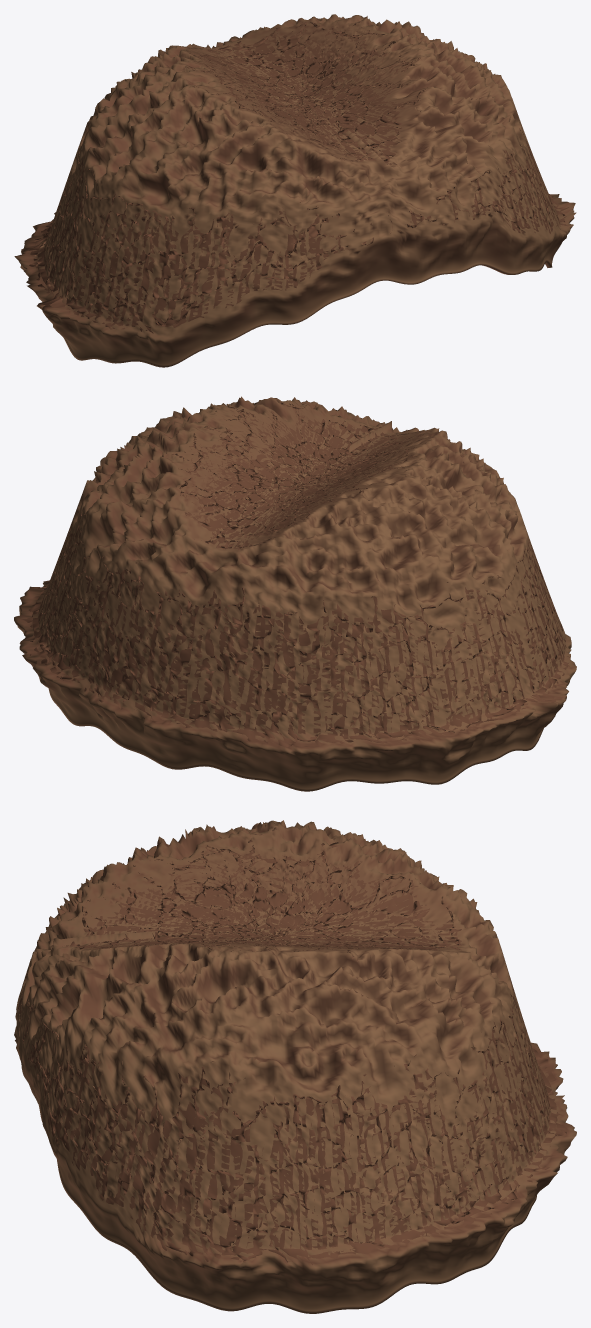
File: Highlights-2d337a1d5c56252-hair.glb
3 renders of one model, top to bottom at view 1: azimuth 30°, elevation 25°; view 2: azimuth 150°, elevation 25°; view 3: azimuth 270°, elevation 25°, orthographic. The views are drawn at different scales.
Parts seen in each view (by area): view 1: 226 hair / Hair252 / dense natural coil groups.001; view 2: 226 hair / Hair252 / dense natural coil groups.001; view 3: 226 hair / Hair252 / dense natural coil groups.001.
Boxes of the visible parts, bbox=[...] form: 226 hair / Hair252 / dense natural coil groups.001: bbox=[14, 14, 576, 367]; 226 hair / Hair252 / dense natural coil groups.001: bbox=[14, 396, 576, 791]; 226 hair / Hair252 / dense natural coil groups.001: bbox=[14, 820, 576, 1313].
Size of the model in its own units: 1.09 by 0.4911 by 0.8485.
Materials: 1 (1 with a texture image).
